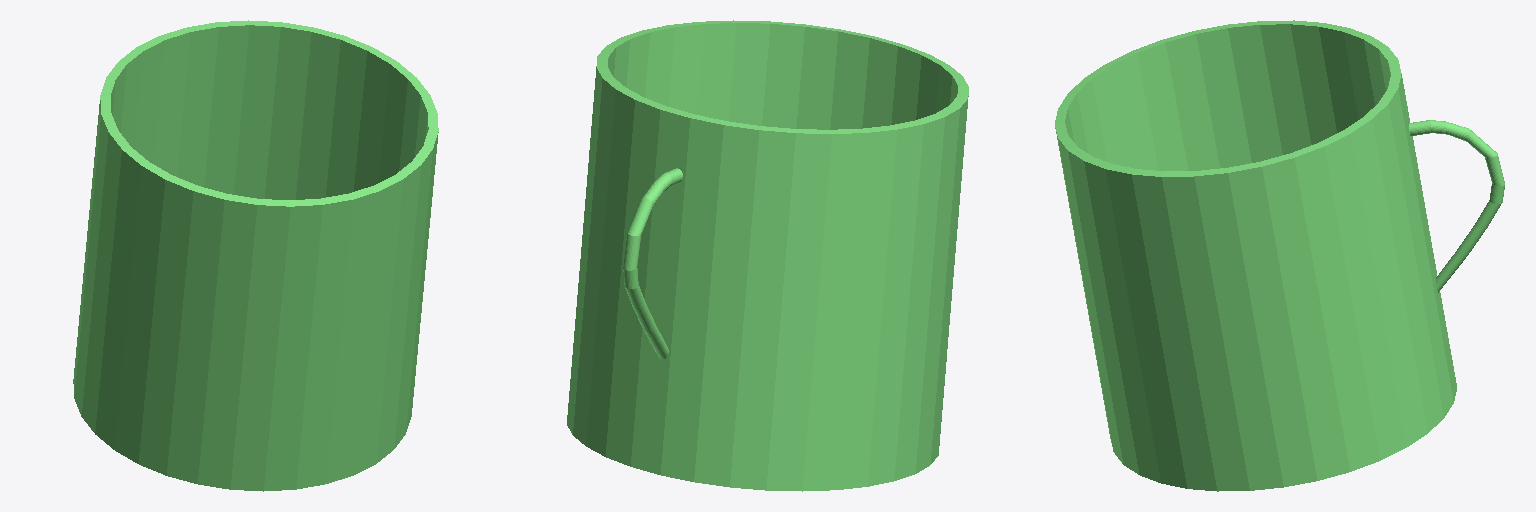
robot.urdf — cup.urdf:
<?xml version="0.0" ?>
<robot name="cup.urdf">
  <link name="baseLink">
    <contact>
      <lateral_friction value="1.0"/>
    </contact>
    <inertial>
      <origin rpy="0 0 0" xyz="0 0 0"/>
       <mass value="0.01"/>
       <inertia ixx="1" ixy="0" ixz="0" iyy="1" iyz="0" izz="1"/>
    </inertial>
    <visual>
      <origin rpy="1.73 0 0" xyz="0 0 0"/>
      <geometry>
				<mesh filename="cup.obj" scale="0.09 0.09 0.09"/>
      </geometry>
       <material name="green">
        <color rgba="0.56 0.93 0.56 1"/>
      </material>
    </visual>
  </link>
</robot>

--- What the picture shows (computed from the rendered views, not written in the file) ---
The picture shows the robot from 3 angles, left to right: view 1: azimuth 30°, elevation 25°; view 2: azimuth 150°, elevation 25°; view 3: azimuth 270°, elevation 25°; orthographic projection.
Robot: cup.urdf — 1 links, 0 joints (none); root link baseLink; default pose: every joint at zero.
Links seen in each view (by area): view 1: baseLink; view 2: baseLink; view 3: baseLink.
Boxes of the visible links, x1,y1,x2,y2 form: baseLink: (73, 20, 438, 491); baseLink: (567, 20, 968, 491); baseLink: (1055, 20, 1504, 491).
Size in the robot's own frame: 0.0775 by 0.0993 by 0.0888 metres.
Meshes: 1 distinct files referenced, 1 mesh visuals loaded (1 OBJ).
